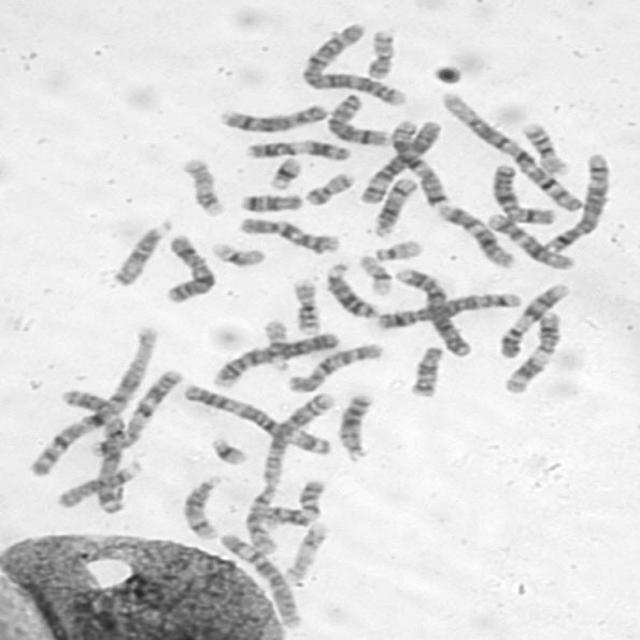A1: (29, 325, 159, 478), (438, 91, 584, 213)
A2: (243, 392, 336, 554), (301, 24, 407, 105)
A3: (183, 383, 331, 456), (61, 389, 127, 514)
B4: (213, 332, 340, 387), (395, 267, 473, 356)
B5: (542, 153, 610, 254), (374, 292, 521, 330)
C10: (288, 344, 383, 392), (239, 217, 340, 253)
C11: (360, 121, 443, 204), (246, 139, 351, 161)
C12: (486, 213, 577, 270), (436, 205, 516, 269)
C6: (220, 534, 304, 630), (506, 310, 562, 393)
C7: (89, 369, 184, 456), (392, 120, 451, 207)
C8: (327, 93, 393, 148), (219, 104, 327, 133)
C9: (500, 283, 571, 358), (261, 478, 327, 531)
D13: (325, 263, 377, 318), (338, 392, 374, 463)
D14: (373, 176, 420, 238), (182, 472, 224, 540)
D15: (57, 459, 144, 507), (113, 221, 172, 286)
E16: (521, 122, 570, 176), (292, 280, 322, 334)
E17: (282, 522, 329, 582), (182, 159, 224, 216)
E18: (410, 346, 445, 398), (241, 192, 303, 214)
F19: (358, 254, 393, 294), (210, 242, 266, 266)
F20: (304, 172, 355, 206), (367, 30, 395, 80)
G21: (269, 156, 302, 190), (211, 438, 246, 465)
G22: (262, 318, 290, 371), (375, 239, 423, 262)
X: (492, 163, 558, 225), (166, 234, 217, 304)
